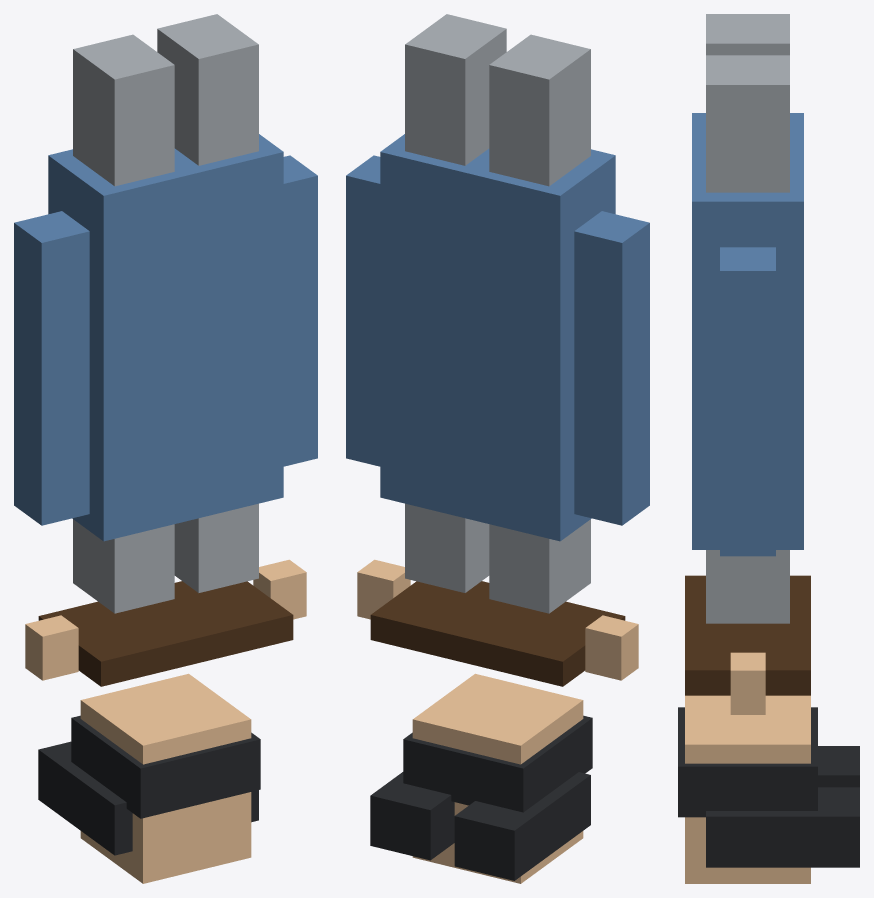
File: civilian-000.glb
3 views of the same model, side by side, from view 1: azimuth 30°, elevation 25°; view 2: azimuth 150°, elevation 25°; view 3: azimuth 270°, elevation 25° (orthographic).
Visible parts, largest first — view 1: civilian_civilian-000; view 2: civilian_civilian-000; view 3: civilian_civilian-000.
Part boxes in pixels (x1,y1,x2,y2): civilian_civilian-000: (14, 14, 317, 883); civilian_civilian-000: (346, 14, 649, 883); civilian_civilian-000: (678, 14, 859, 883).
Bounding box in the file's own units: 0.46 × 1.28 × 0.26.
